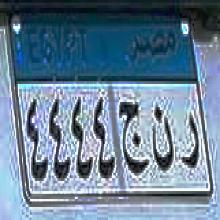4: (24, 93, 48, 190), (72, 90, 93, 186), (94, 95, 116, 186), (49, 96, 70, 184)
jeem: (117, 92, 149, 182)
noon: (150, 98, 174, 180)
raa: (179, 102, 200, 178)
